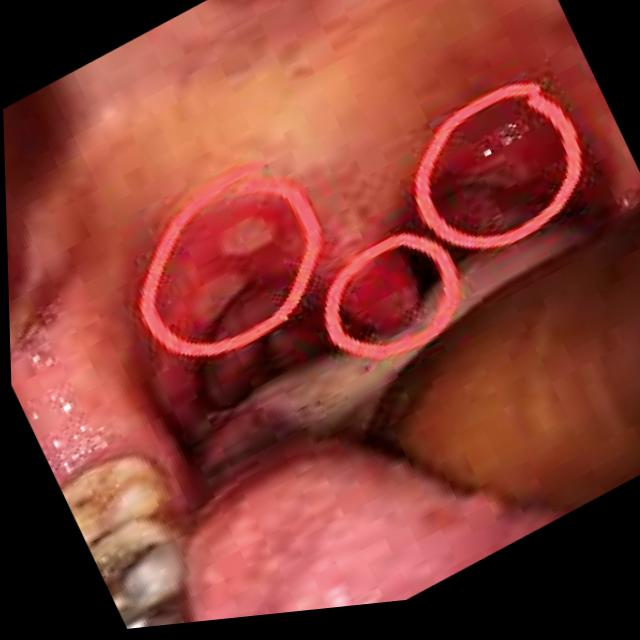ulcer: (429, 98, 565, 236), (339, 251, 420, 334), (220, 218, 269, 254)
